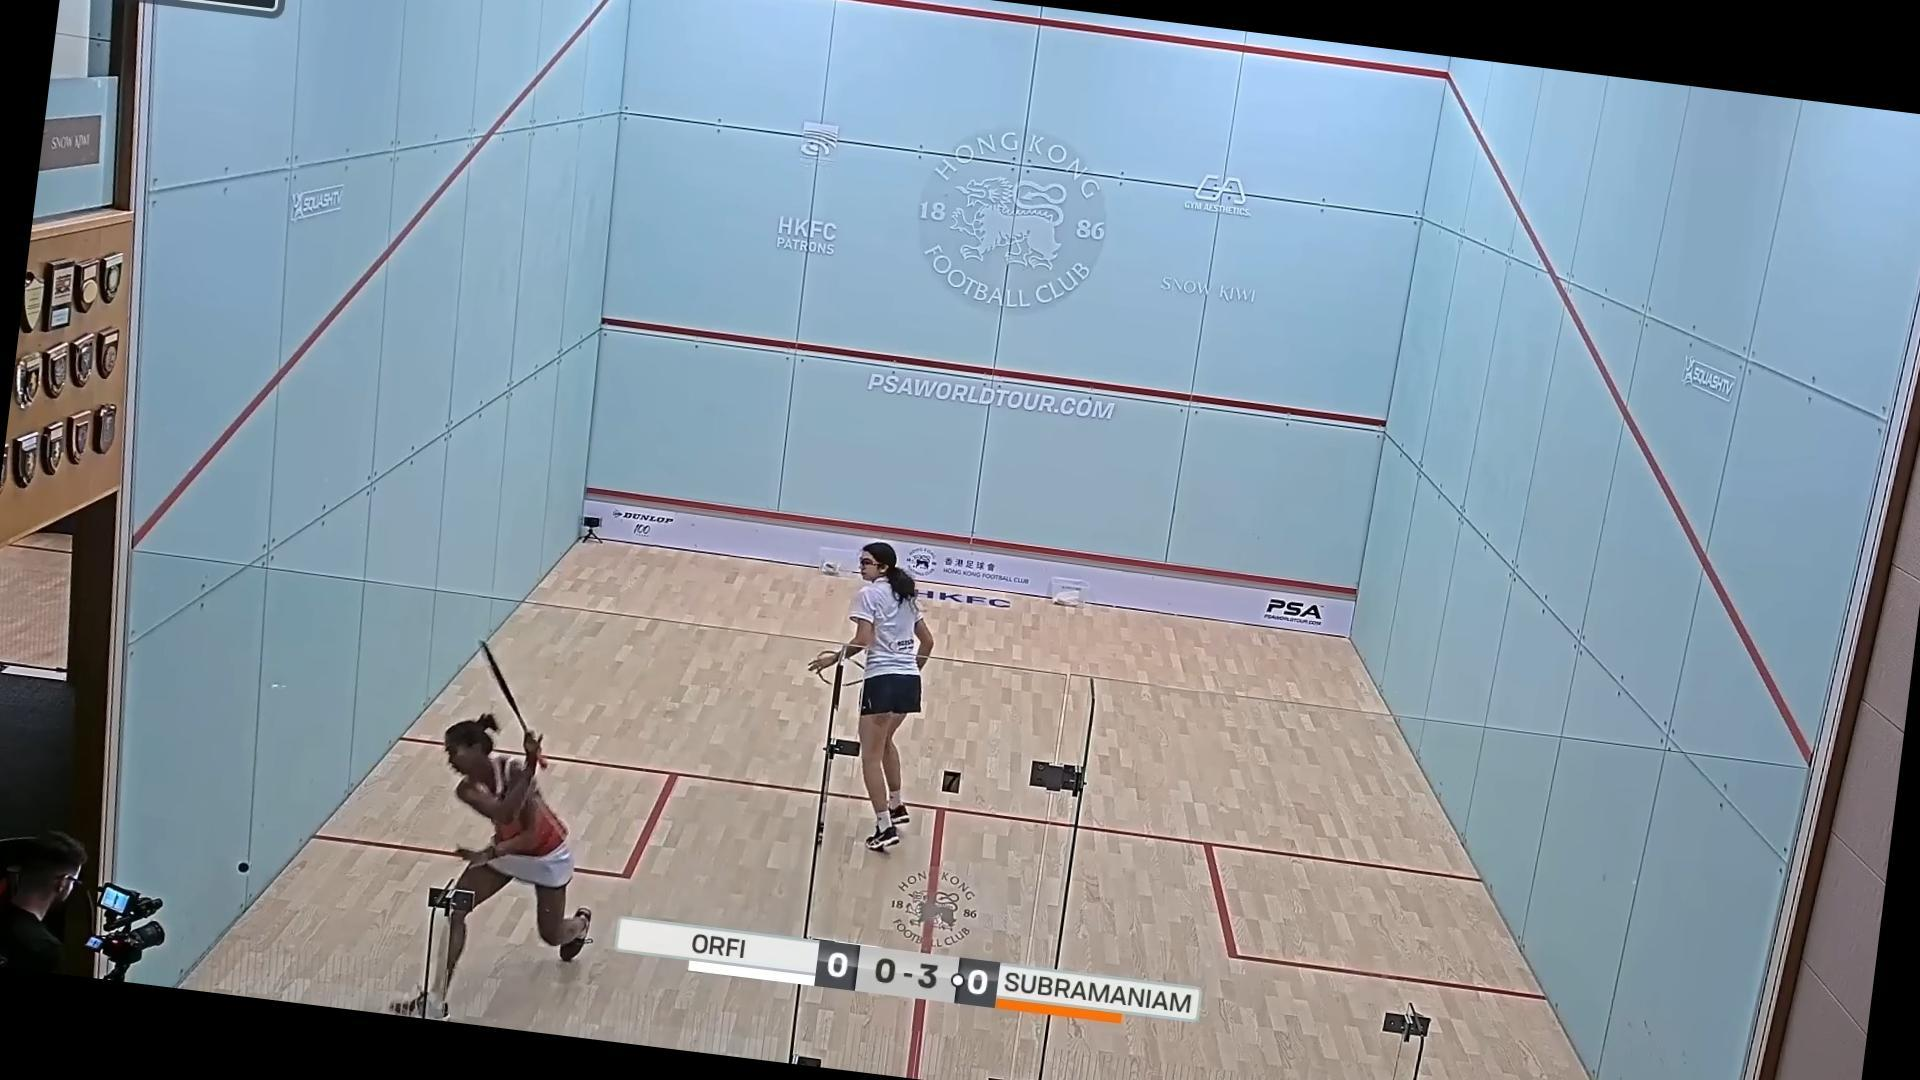Squash-Ball: (224, 848, 261, 890)
